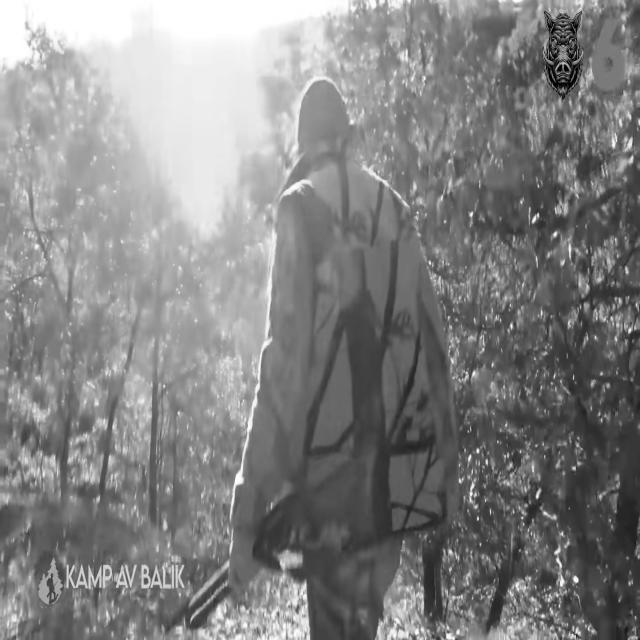boar: (542, 9, 583, 98)
monkey: (229, 77, 457, 638)
